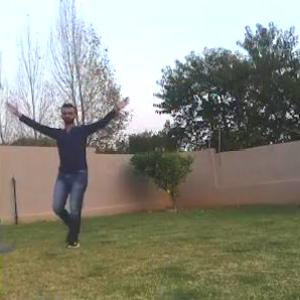takeoff: (7, 94, 131, 246)
